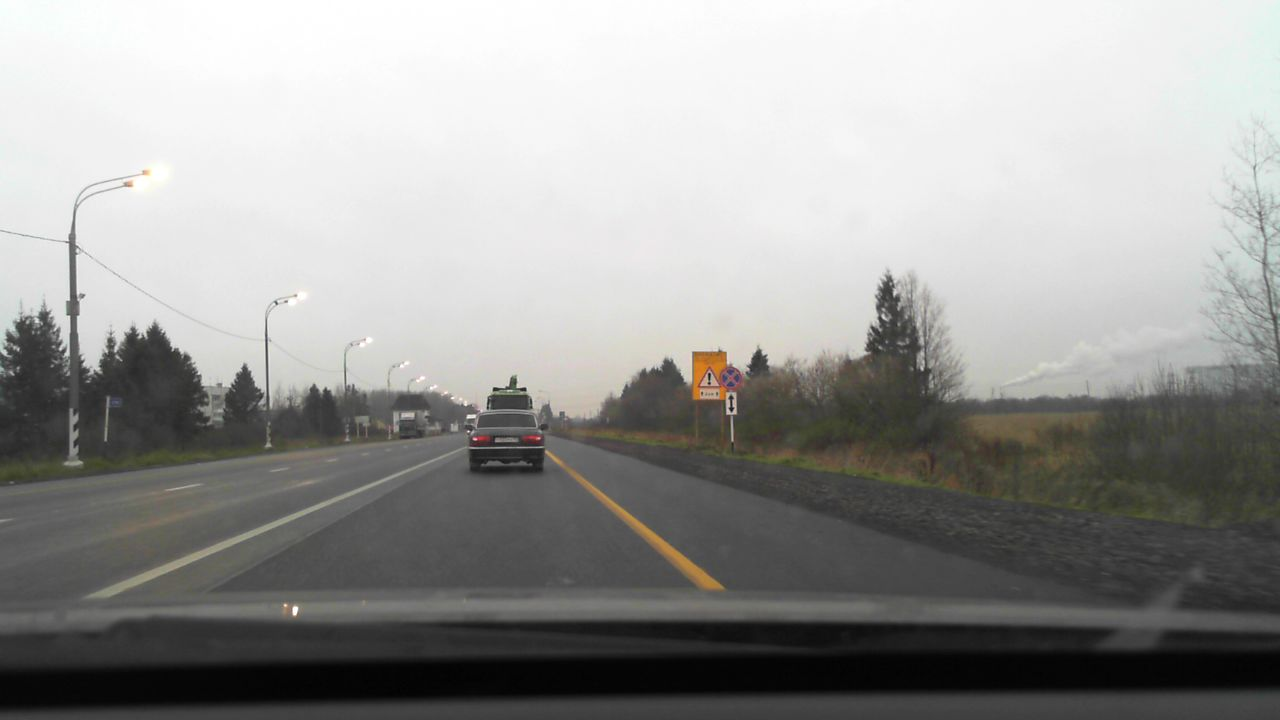No Parking: (719, 367, 742, 390)
